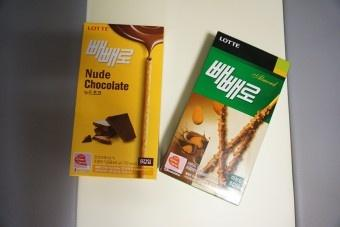snack: (158, 30, 293, 207), (69, 21, 165, 179)
